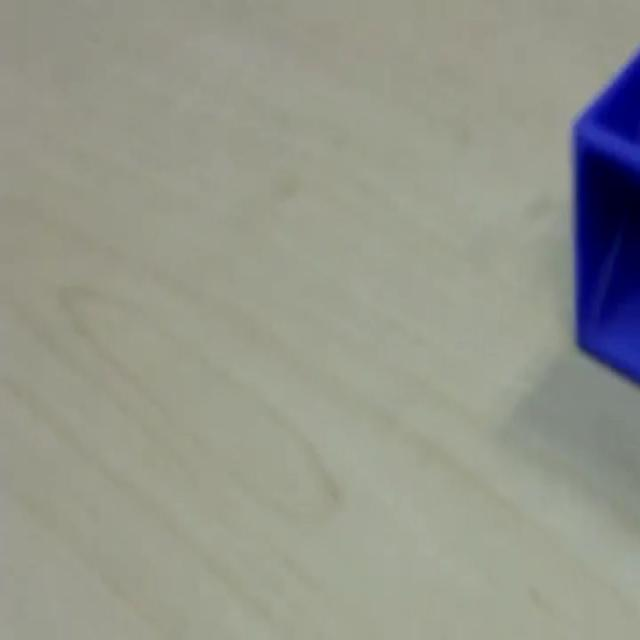blue_block: (570, 43, 638, 384)
